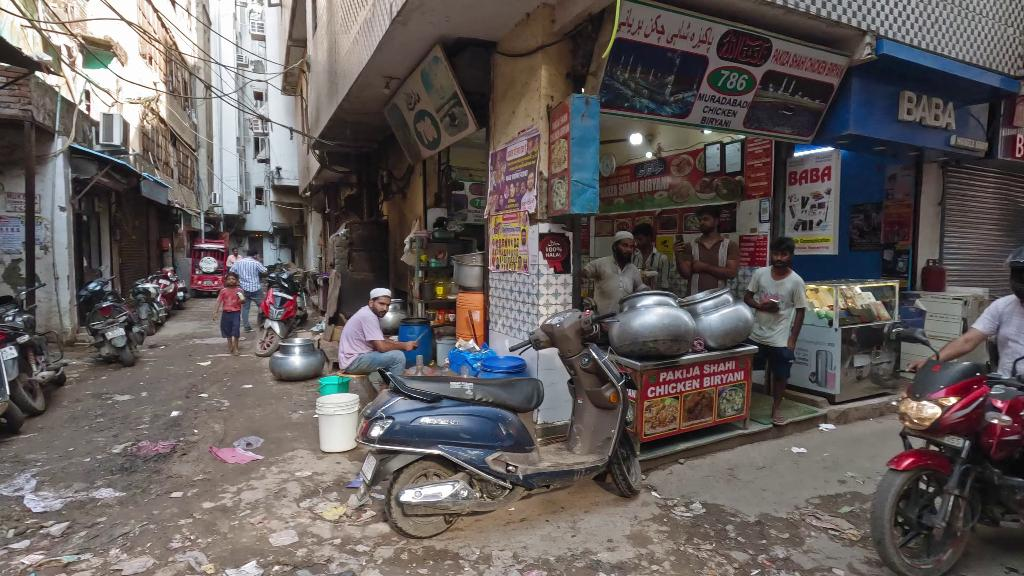garbage: (1, 467, 123, 516), (123, 427, 189, 463), (205, 447, 272, 474), (788, 443, 813, 456), (819, 419, 837, 429)
